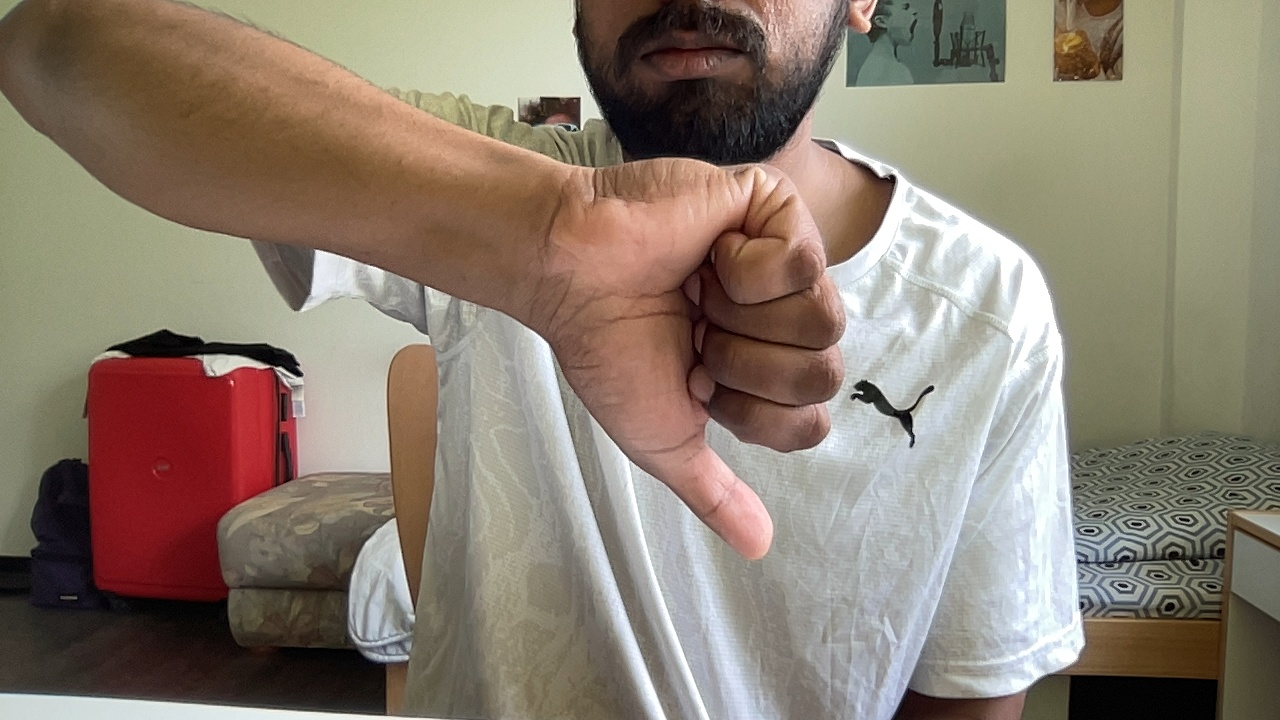ThumbsDown: (557, 160, 850, 562)
